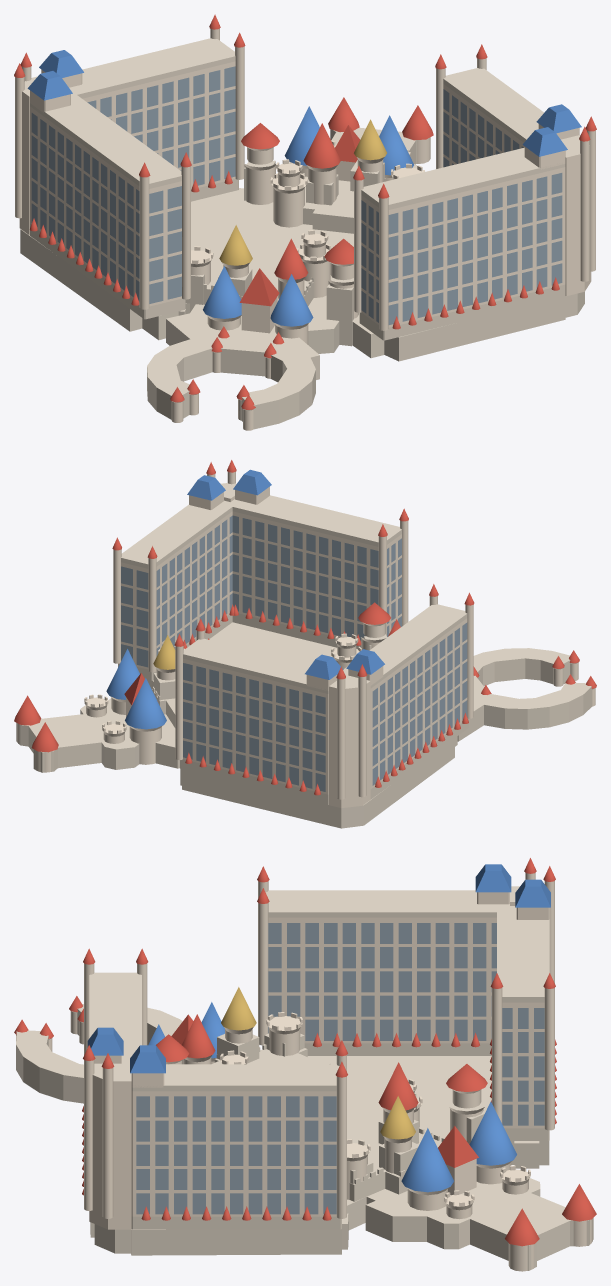
Rendered from lv-excalibur.glb.
3 views of the same model, one above another, from view 1: azimuth 30°, elevation 25°; view 2: azimuth 150°, elevation 25°; view 3: azimuth 270°, elevation 25° (orthographic). The views are drawn at different scales.
Parts seen in each view (by area): view 1: Excalibur Hotel & Casino; view 2: Excalibur Hotel & Casino; view 3: Excalibur Hotel & Casino.
Part boxes in pixels (bbox=[...]): Excalibur Hotel & Casino: bbox=[14, 14, 596, 430]; Excalibur Hotel & Casino: bbox=[14, 460, 596, 828]; Excalibur Hotel & Casino: bbox=[14, 858, 596, 1271].
Size of the model in its own units: 246 by 95 by 248.
